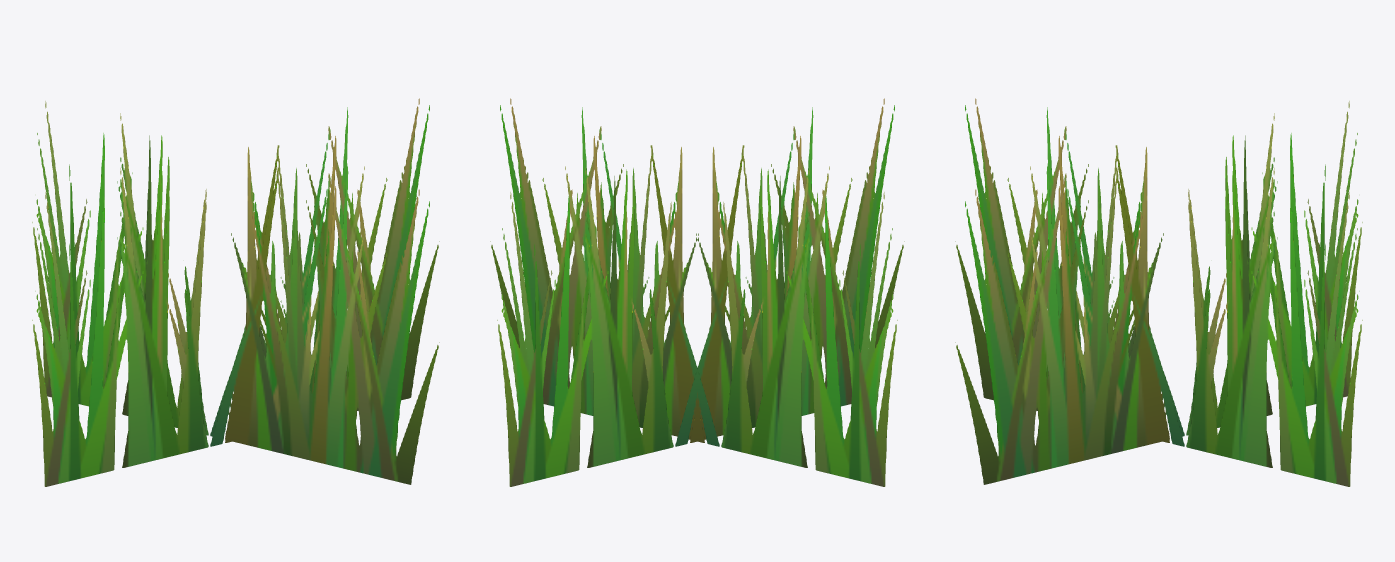
File: grass_tuft.glb
3 renders of one model, left to right at view 1: azimuth 30°, elevation 25°; view 2: azimuth 150°, elevation 25°; view 3: azimuth 270°, elevation 25°, orthographic.
Parts seen in each view (by area): view 1: grass; view 2: grass; view 3: grass.
Boxes of the visible parts, box(x1,y1,x2,y2) form: grass: box(32, 98, 439, 486); grass: box(490, 98, 904, 486); grass: box(955, 98, 1362, 486).
Bounding box in the file's own units: 0.64 × 0.45 × 0.5543.
1 material, 1 textured.
